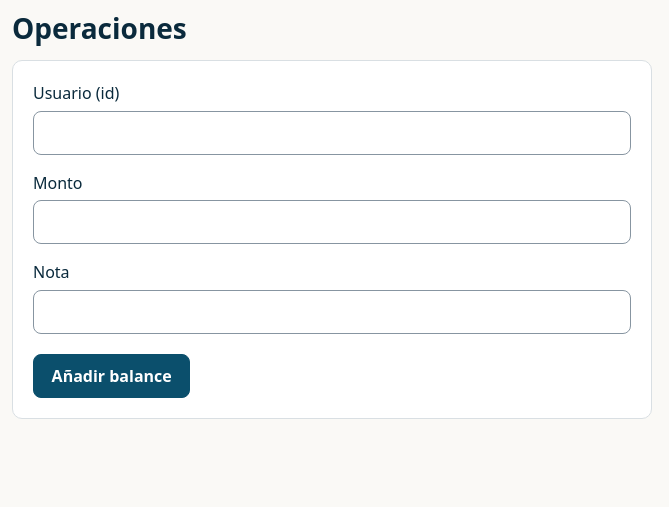
Test: 2. anti doble clic › Operaciones: Añadir balance una sola vez
In the field labelled "Usuario (id)": (332, 133) [33,111,631,155], type "1"
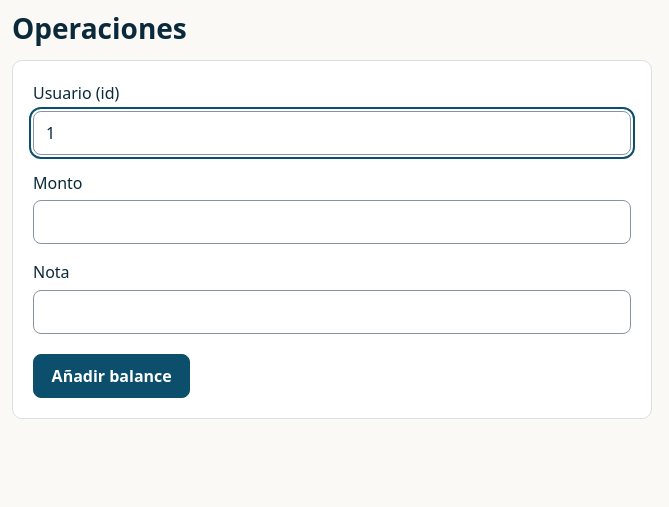
In the number field labelled "Monto": (332, 222) [33,200,631,244], type "100"
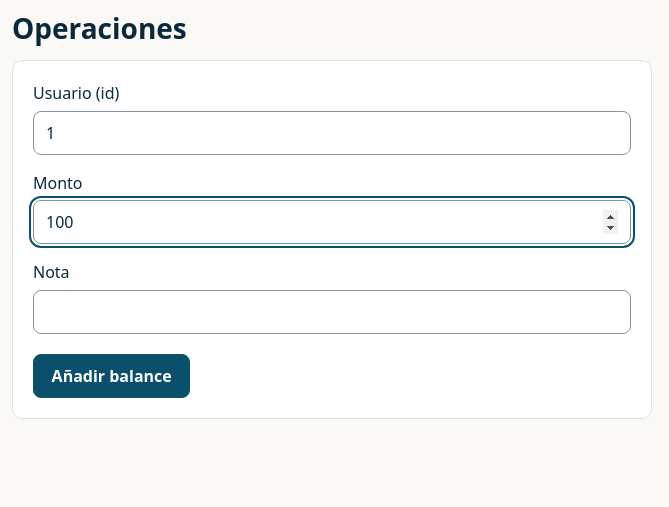
Double-click the button "Añadir balance": (112, 376) [33,354,190,398]
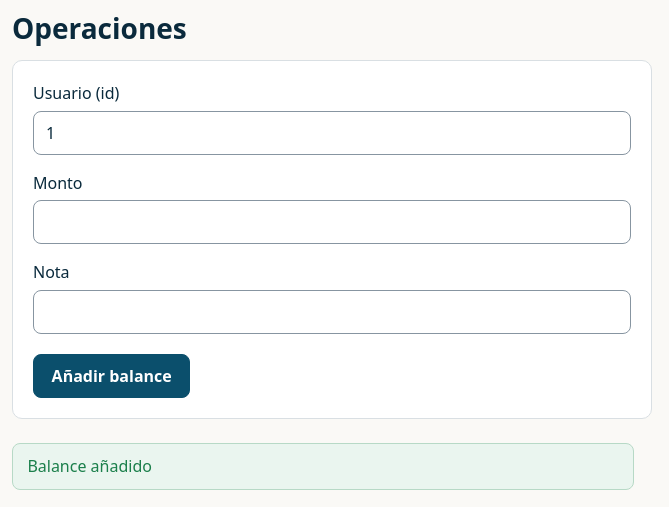
Result: the message reads "Balance añadido" at [27,455,152,477]
